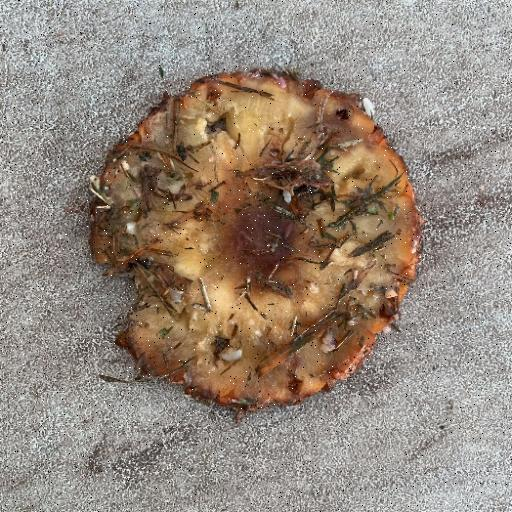Waste: (86, 68, 425, 414)
